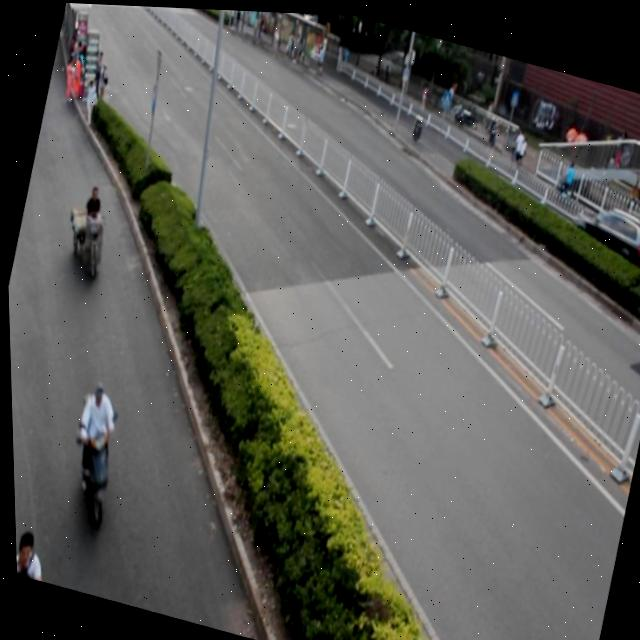car: (560, 187, 640, 283)
